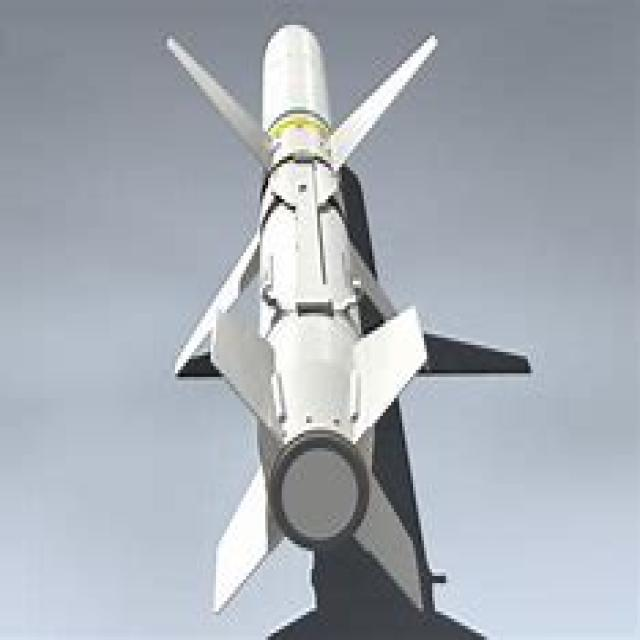missile: (172, 23, 436, 615)
